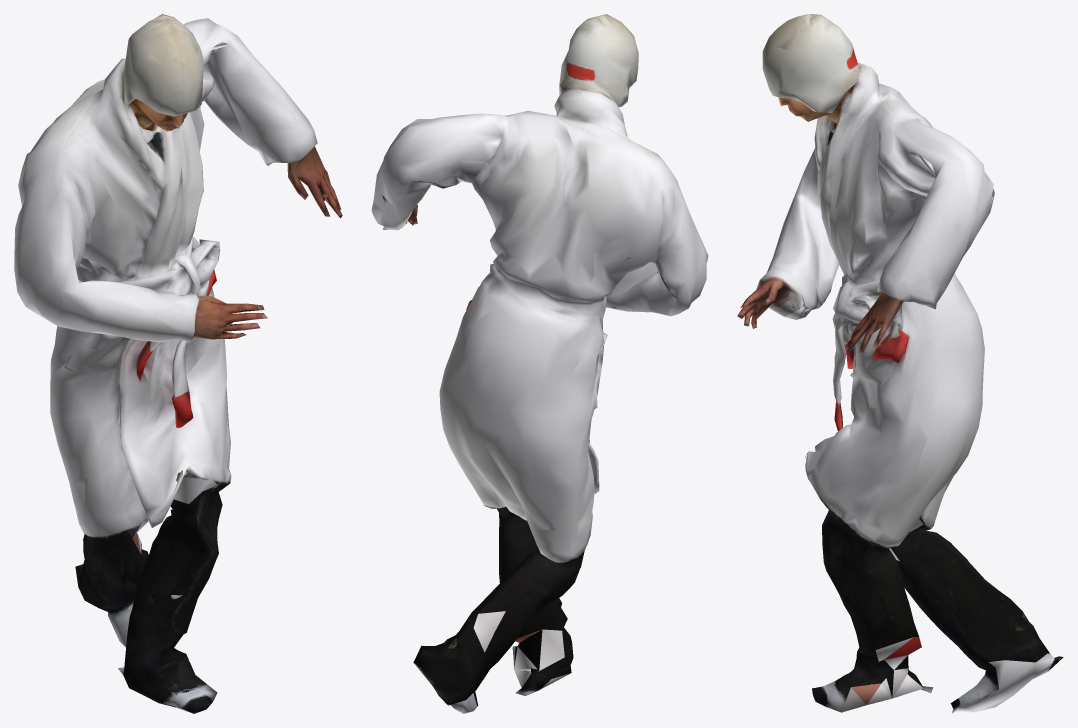
File: whiterobe.glb
3 renders of one model, left to right at view 1: azimuth 30°, elevation 25°; view 2: azimuth 150°, elevation 25°; view 3: azimuth 270°, elevation 25°, orthographic. The views are drawn at different scales.
Visible parts, largest first — view 1: Low.001; view 2: Low.001; view 3: Low.001.
Part boxes in pixels (bbox=[...]): Low.001: bbox=[14, 14, 342, 713]; Low.001: bbox=[371, 14, 708, 713]; Low.001: bbox=[737, 14, 1063, 713].
Bounding box in the file's own units: 1.86 × 3.83 × 1.68.
1 material, 1 textured.
